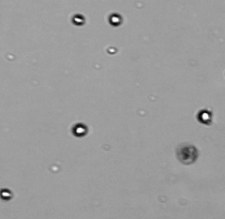Dead Cell: (177, 143, 195, 161)
Living Cell: (107, 11, 122, 26), (198, 107, 211, 123), (73, 122, 87, 136), (1, 187, 12, 201), (72, 14, 85, 24), (105, 44, 118, 54)
